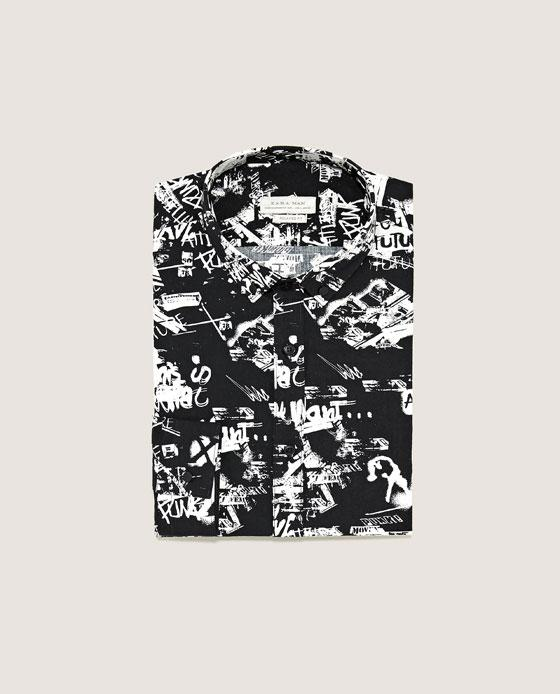teeshirt: (136, 137, 418, 553)
